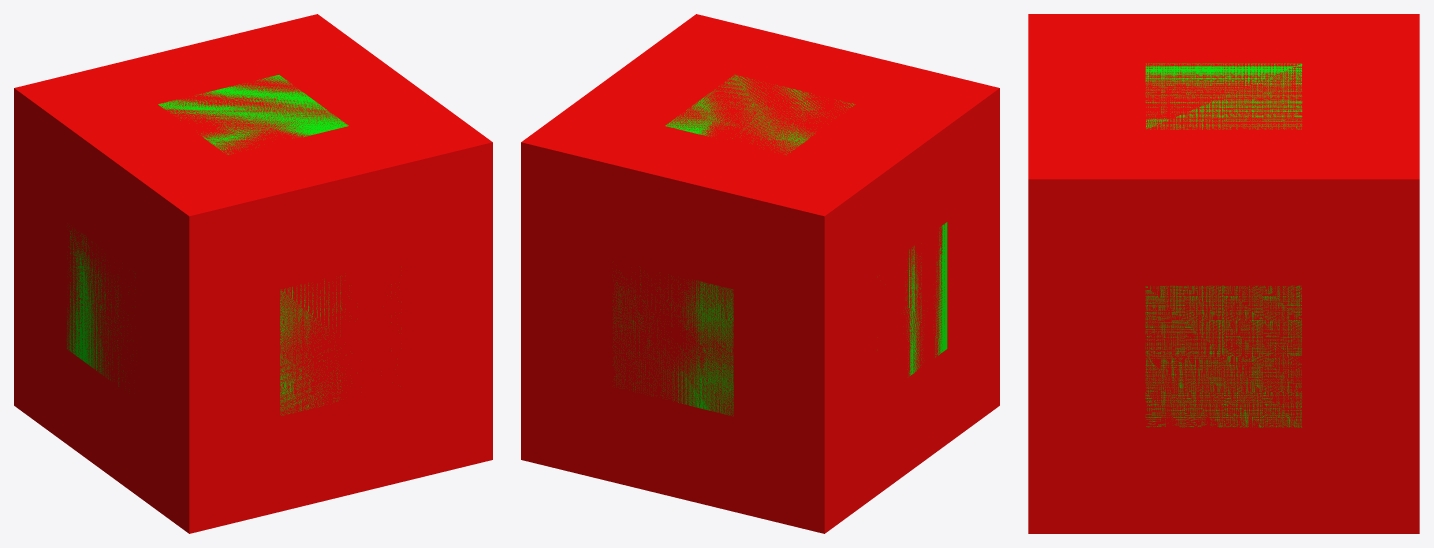
3 views of the same model, side by side, from view 1: azimuth 30°, elevation 25°; view 2: azimuth 150°, elevation 25°; view 3: azimuth 270°, elevation 25° (orthographic). The views are drawn at different scales.
Parts seen in each view (by area): view 1: Объект_Куб_1, Объект_Куб; view 2: Объект_Куб_1, Объект_Куб; view 3: Объект_Куб_1, Объект_Куб.
Boxes of the visible parts, x1,y1,x2,y2 form: Объект_Куб_1: (14,14,492,533); Объект_Куб: (67,75,391,415); Объект_Куб_1: (521,14,999,533); Объект_Куб: (612,75,947,415); Объект_Куб_1: (1028,14,1419,533); Объект_Куб: (1145,63,1302,427).
Bounding box in the file's own units: 100 × 100 × 100.
